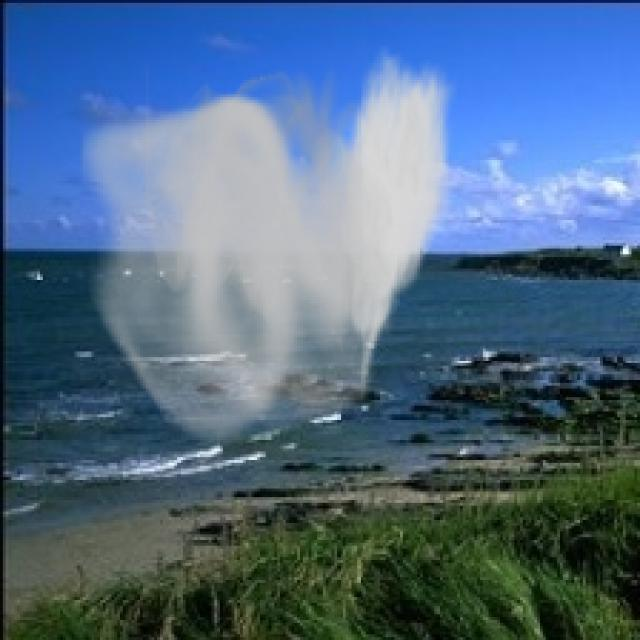Smoke: (80, 46, 457, 454)
